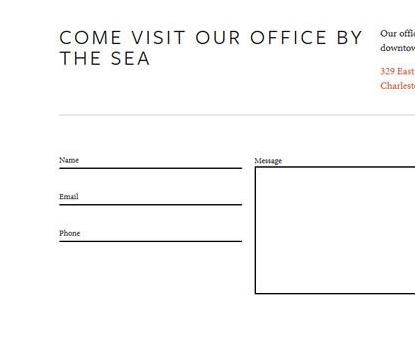field_line: (58, 154, 244, 171), (56, 191, 244, 206), (58, 227, 242, 242)
